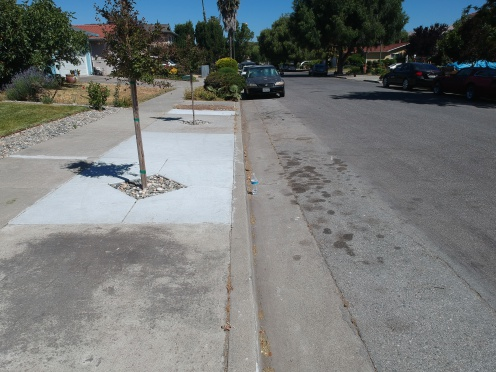bottle: (243, 170, 265, 199)
